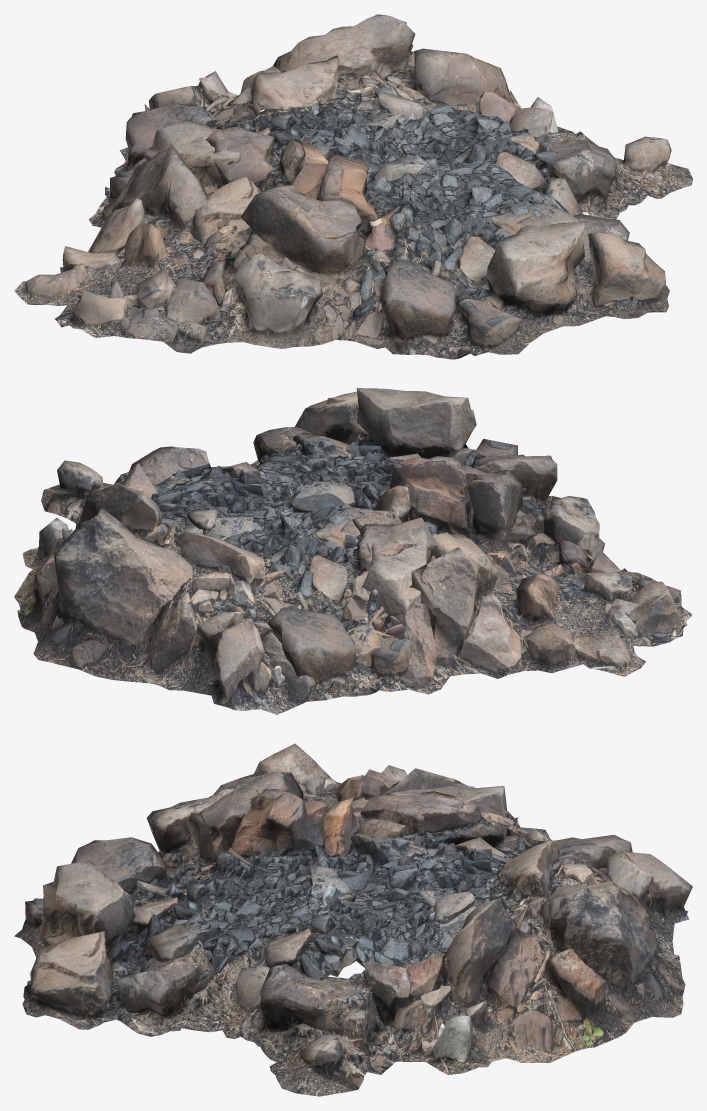
File: SM_Campfire_01_06.fbx
3 renders of one model, top to bottom at view 1: azimuth 30°, elevation 25°; view 2: azimuth 150°, elevation 25°; view 3: azimuth 270°, elevation 25°, orthographic. The views are drawn at different scales.
Parts seen in each view (by area): view 1: sm_Campfire_01_06_LOD0; view 2: sm_Campfire_01_06_LOD0; view 3: sm_Campfire_01_06_LOD0.
Boxes of the visible parts, bbox=[...] form: sm_Campfire_01_06_LOD0: bbox=[14, 14, 692, 359]; sm_Campfire_01_06_LOD0: bbox=[14, 388, 692, 714]; sm_Campfire_01_06_LOD0: bbox=[14, 743, 692, 1096].
Size of the model in its own units: 131 by 147 by 26.39.
